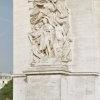Statue: (16, 4, 73, 72)
